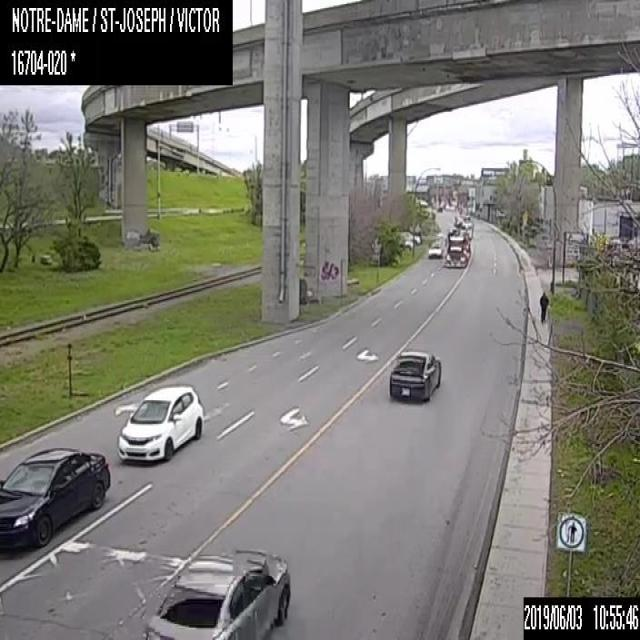pedestrian: (539, 290, 548, 322)
vehicle: (143, 548, 290, 639), (0, 448, 109, 553), (114, 382, 204, 462), (388, 350, 442, 402), (443, 230, 470, 268), (402, 232, 420, 244), (428, 242, 442, 257), (405, 240, 412, 248)
